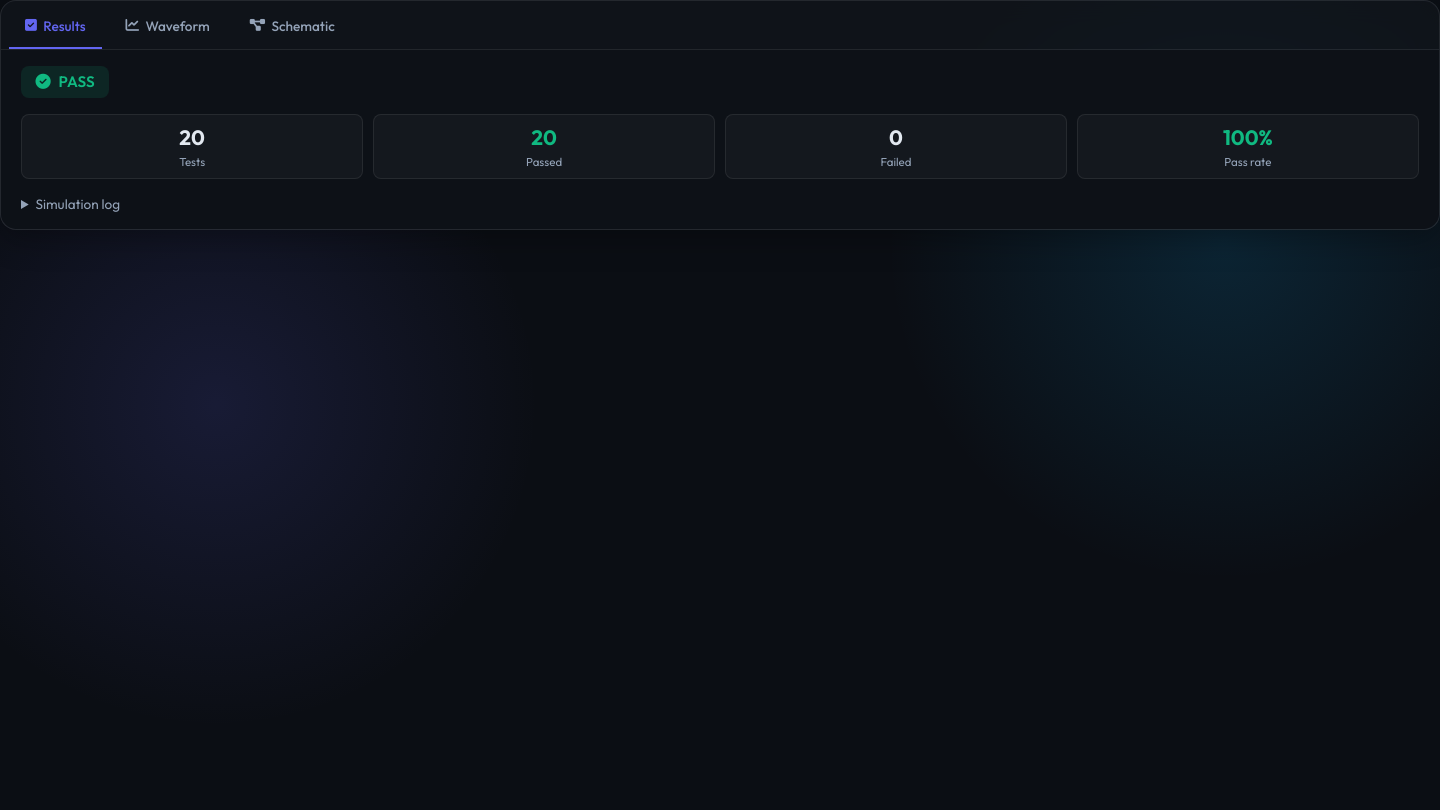
Test case: ResultsPanel › switches to waveform tab and shows waveform
The width and height of the screenshot is (1440, 810).
What coordinates should you click on to do the following:
click the tab "Waveform"
I would click on:
 (168, 29)
Its box is [110,9,226,49].
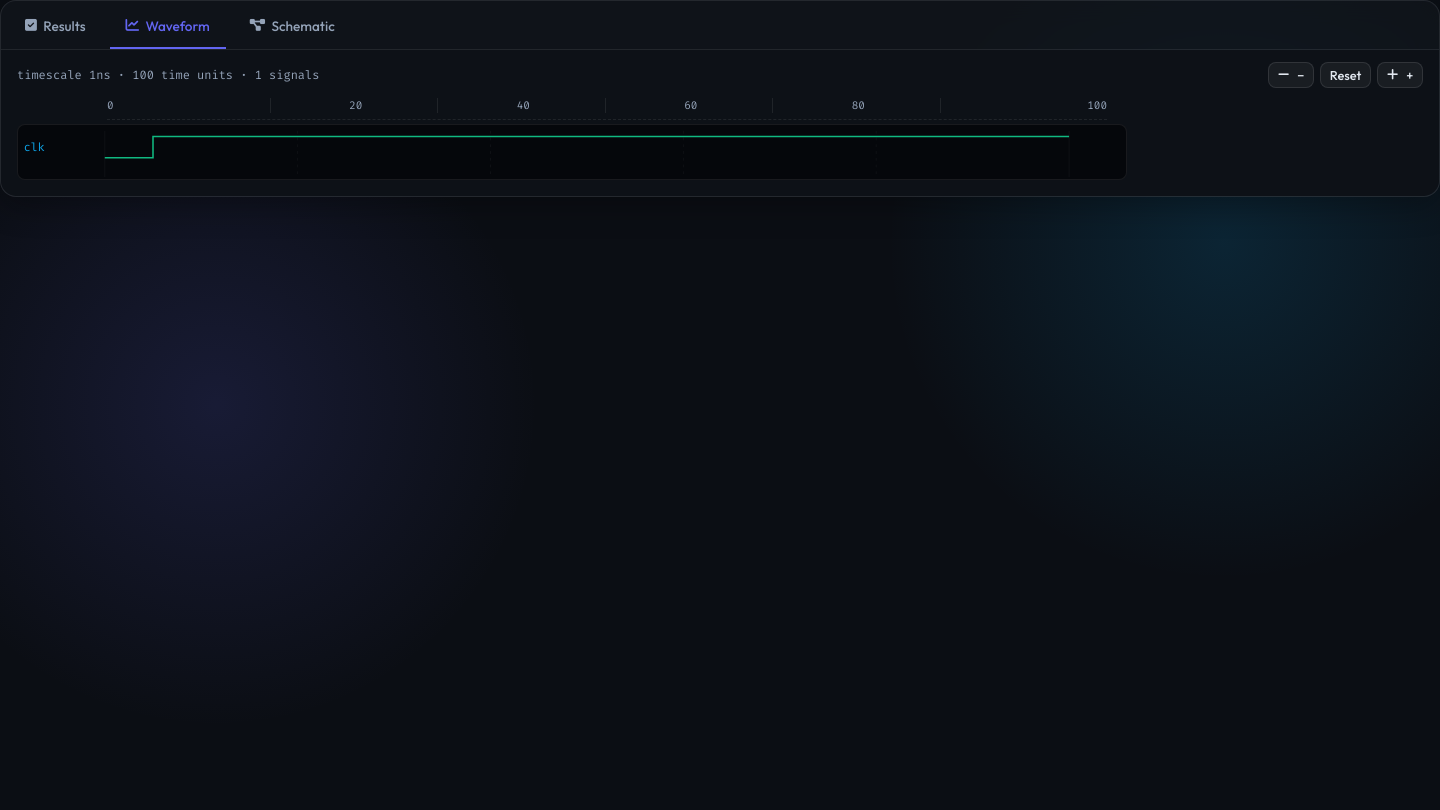
Check: the text "timescale 1ns · 100 time units · 1 signals" is shown, box [17,67,320,83]
